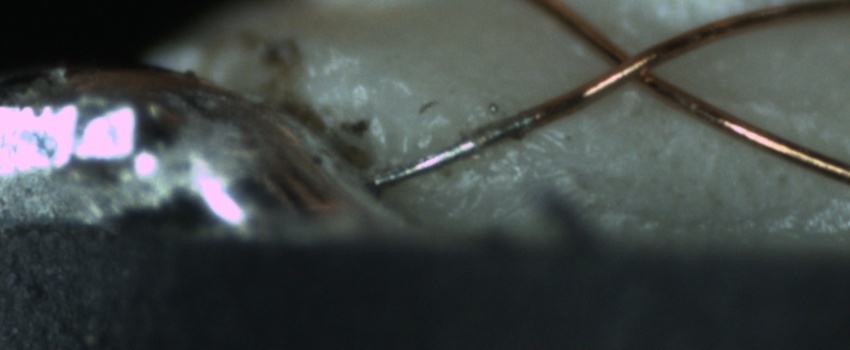CL: (581, 29, 675, 97)
TS: (369, 112, 531, 188)
